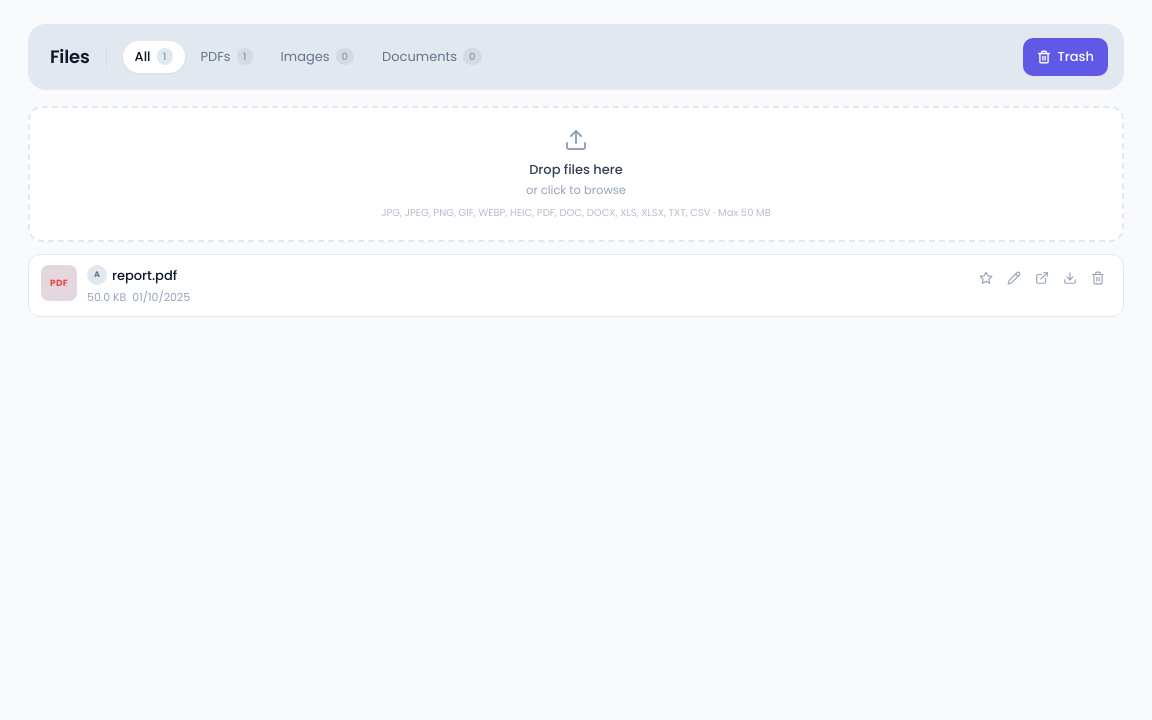
Scenario: FileManager › FE-COMP-FILEMANAGER-023: assign modal shows reservations list
Step 1. Click the button titled "assign" → (1014, 278), box [1001, 265, 1027, 291]
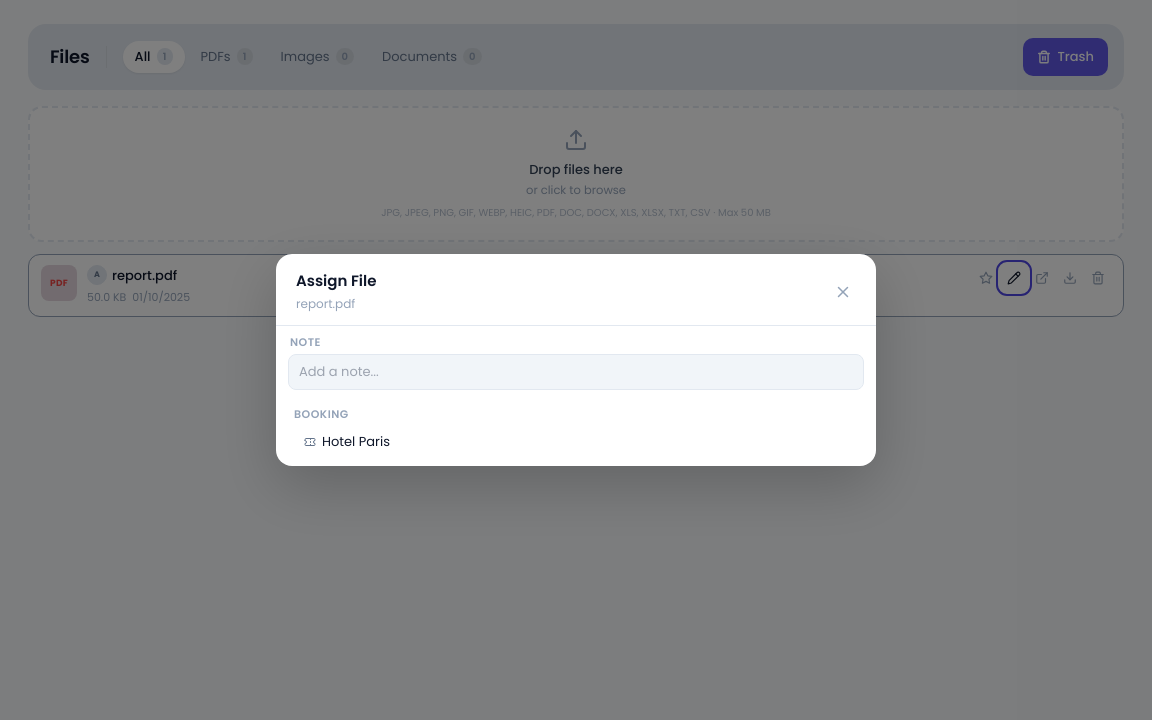
Expected: the text "Hotel Paris" is shown, [322, 432, 390, 452]
